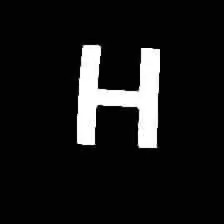LTR_H: (66, 32, 163, 158)
